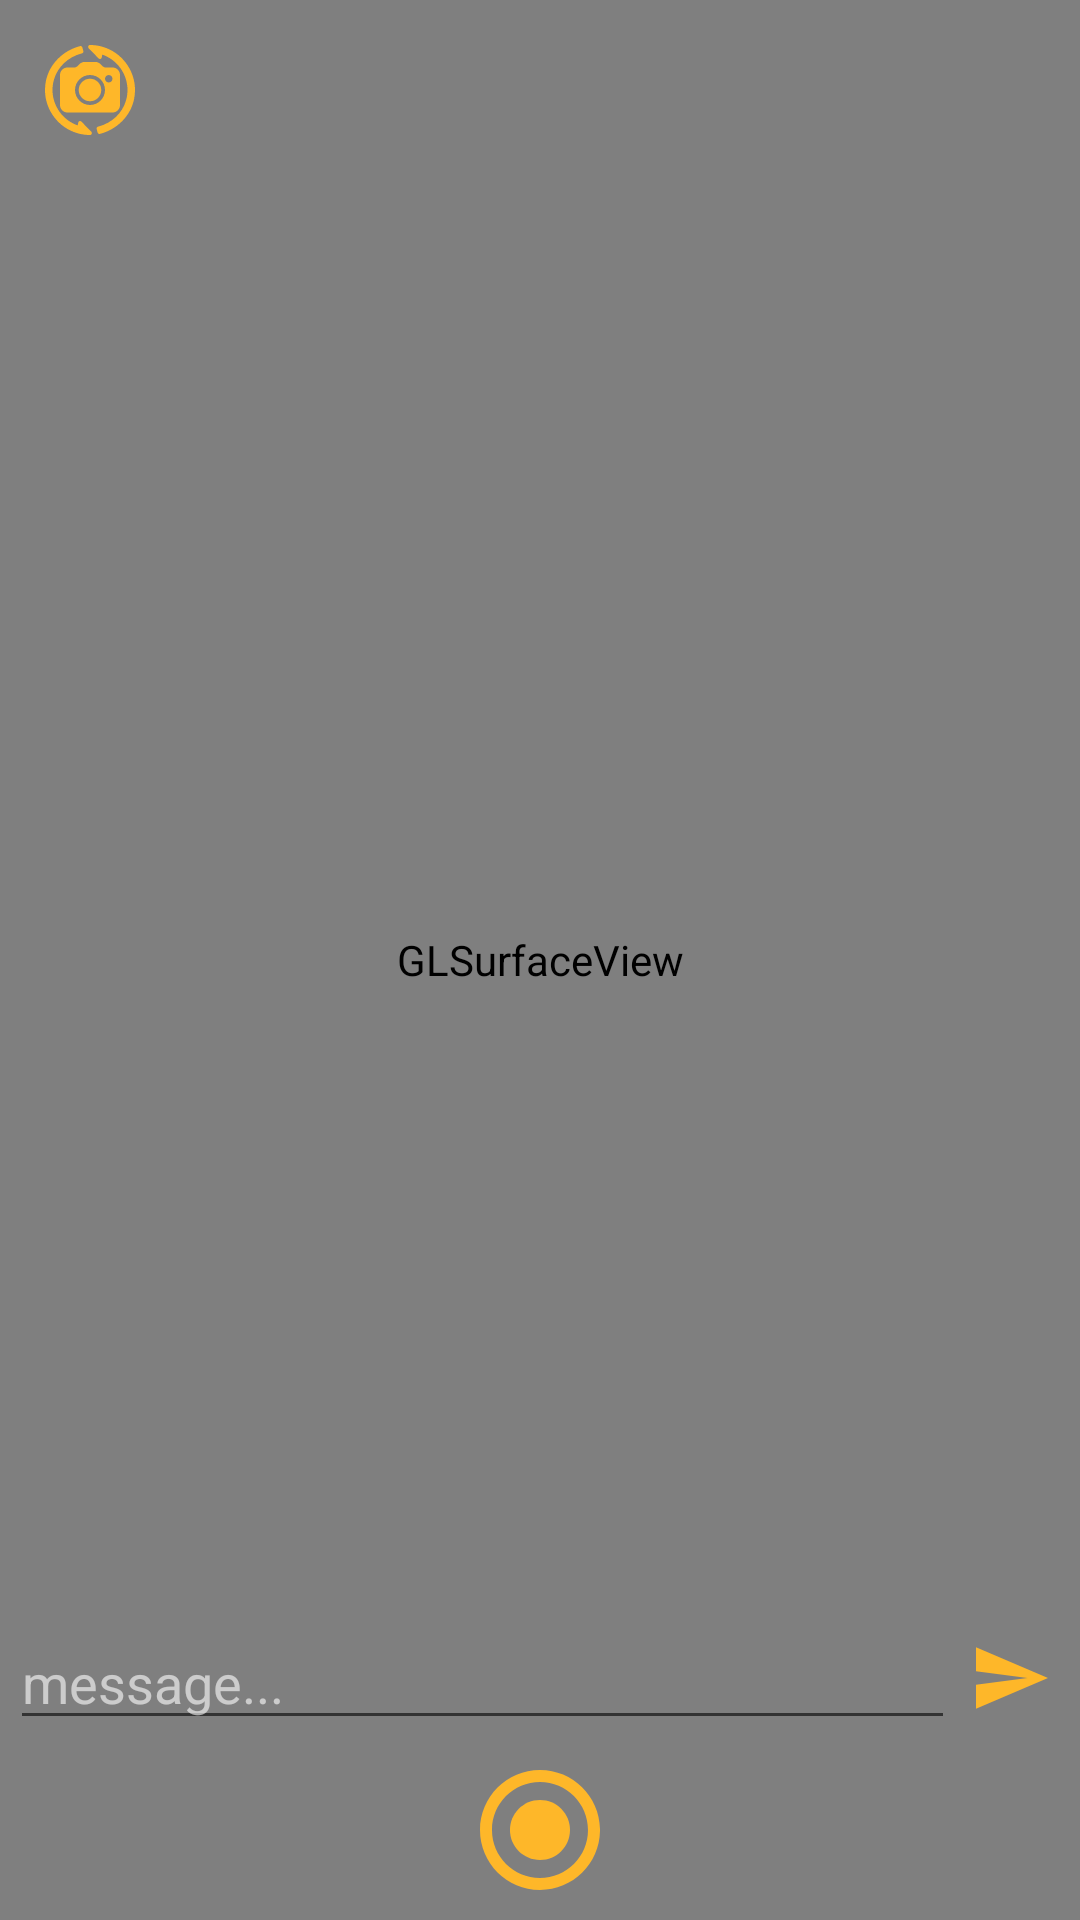

Where to tap for icons on this 1080px x 1920px app screen, as point (x, y):
livestart: point (540, 1830)
rotate: point (90, 90)
sendbutton: point (1012, 1678)
